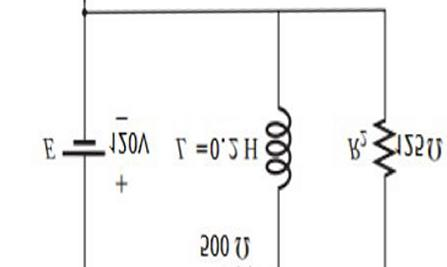resistor: (368, 109, 396, 182)
